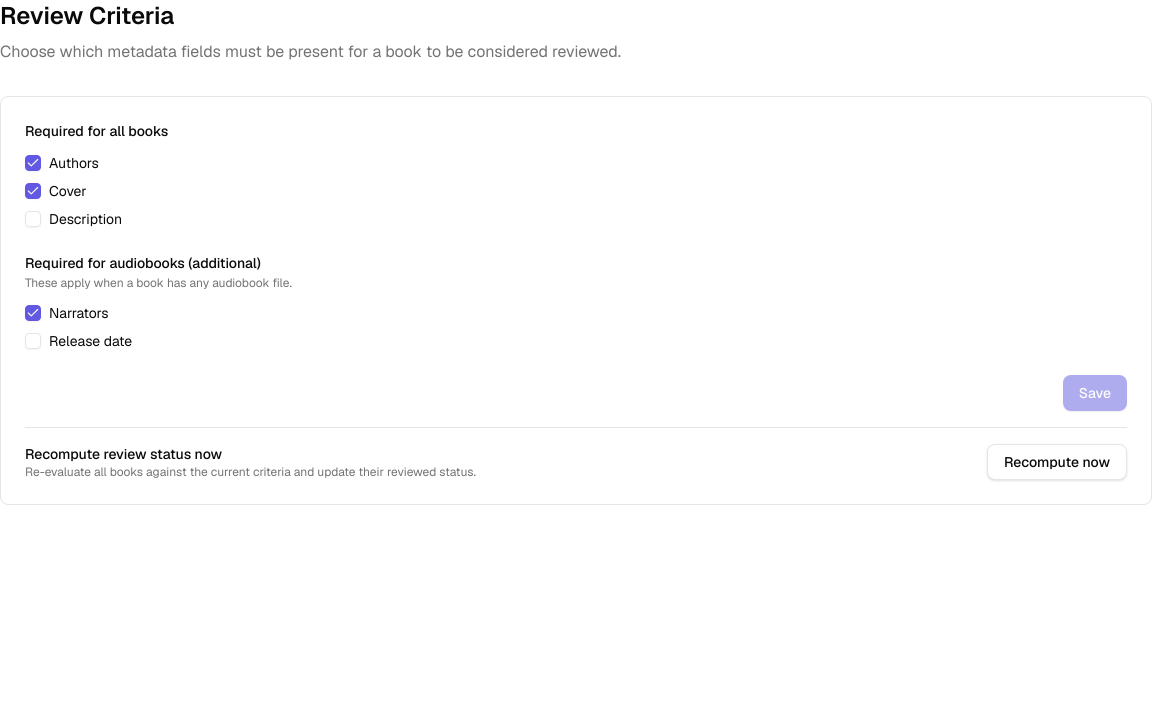
Test: AdminReviewCriteria › opens confirmation dialog before saving when overrides exist
// Toggle description to enable the Save button
Step 1. Click the checkbox named "Description" next to "Description" → (33, 219), box [25,211,41,227]
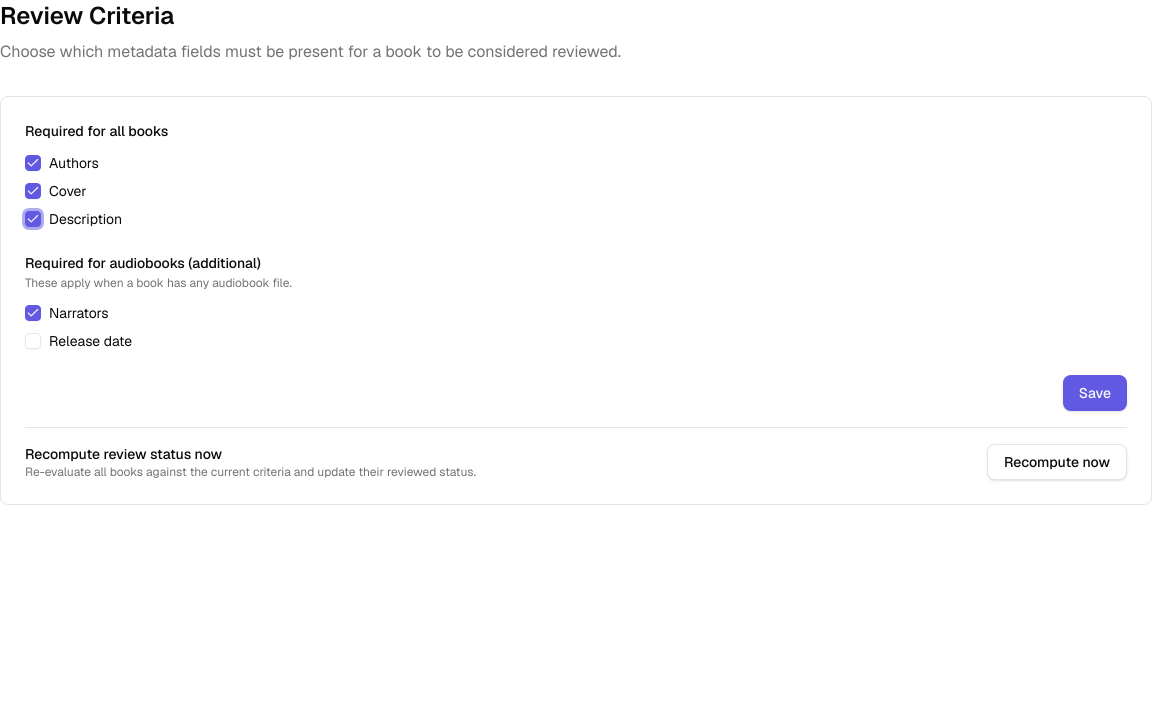
Step 2. Click the button "Save" → (1095, 393), box [1063,375,1127,411]
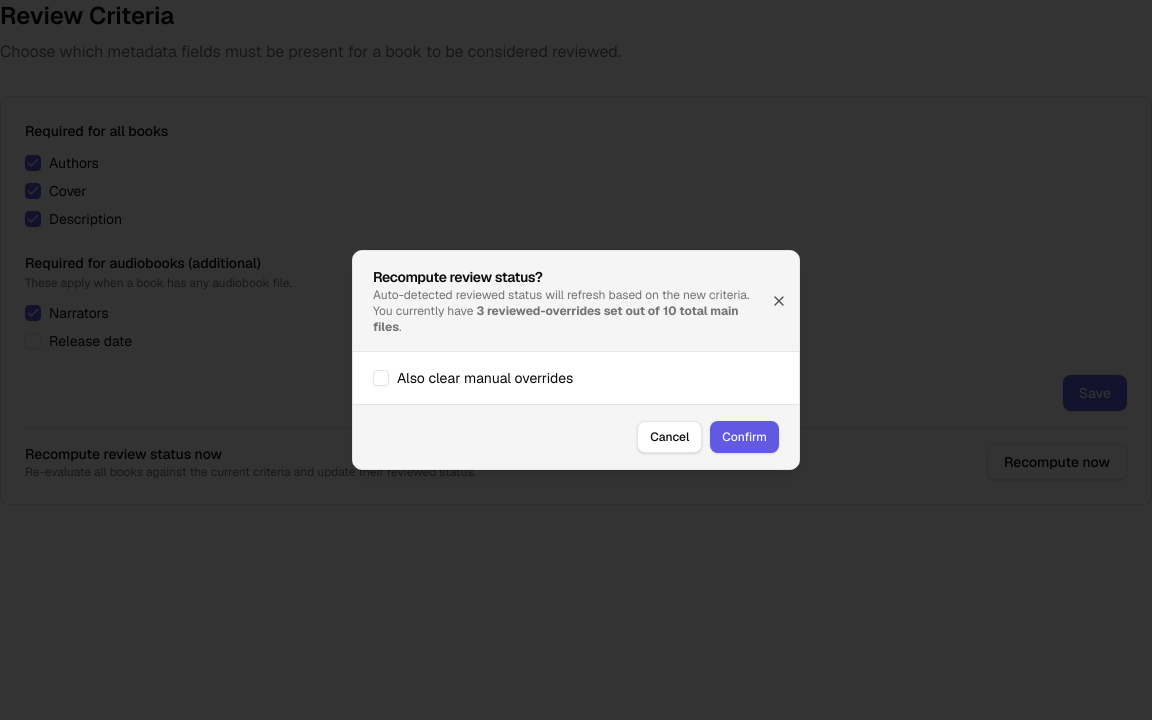
Check: the heading "Recompute review status?" is shown, box [373,268,542,286]
Check: the text "3 reviewed-overrides set out of 10 total main files" is shown, box [373,303,739,335]
